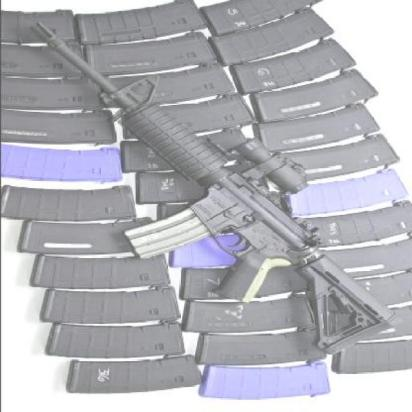Gun: (26, 17, 402, 362)
